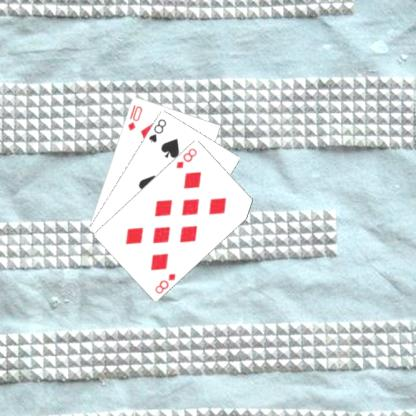10D: (125, 102, 144, 132)
8D: (173, 145, 198, 170), (152, 270, 177, 295)
8S: (146, 116, 168, 144)
